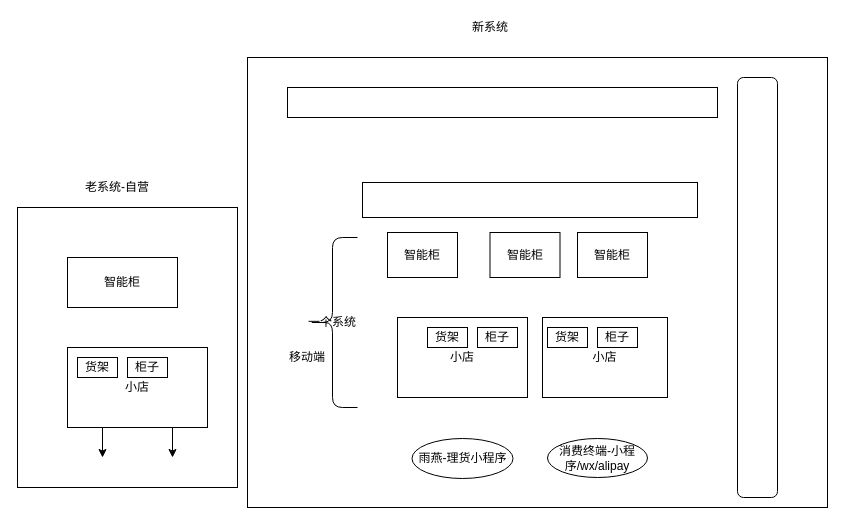
This 845x525 diagram has some shape labels left out. Each missing label, with the centre of its shape:
"代理商，下面关联很多的运营商" goes at point (502, 102).
"平台（玄武）" goes at point (757, 287).
"运营商-系统（朱雀）" goes at point (530, 200).
